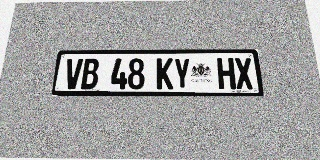4: (110, 58, 128, 89)
8: (127, 58, 145, 89)
B: (81, 58, 99, 89)
H: (217, 58, 236, 89)
K: (156, 58, 173, 89)
V: (64, 58, 83, 89)
X: (234, 58, 254, 89)
Y: (173, 58, 191, 89)
